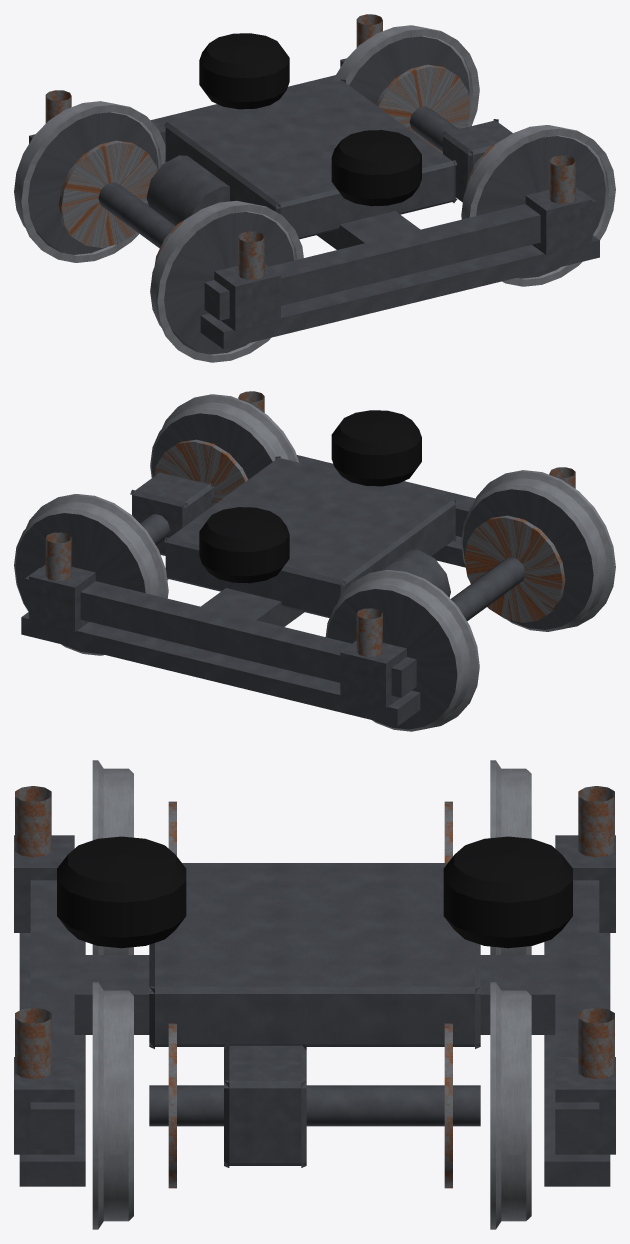
Rendered from train_bogie.obj.
The picture shows the model from 3 angles, top to bottom: view 1: azimuth 30°, elevation 25°; view 2: azimuth 150°, elevation 25°; view 3: azimuth 270°, elevation 25°; orthographic projection. The views are drawn at different scales.
Visible parts, largest first — view 1: train_bogie; view 2: train_bogie; view 3: train_bogie.
Boxes of the visible parts, left/top/right/bottom form: train_bogie: left=14, top=14, right=615, bottom=362; train_bogie: left=14, top=391, right=615, bottom=731; train_bogie: left=14, top=760, right=615, bottom=1229.
Size of the model in its own units: 2.8 by 1.01 by 2.18.
